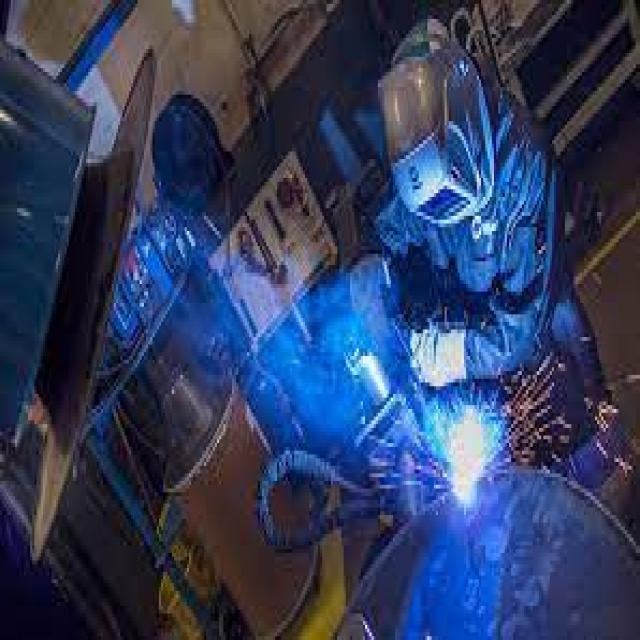welding: (450, 415, 483, 495)
